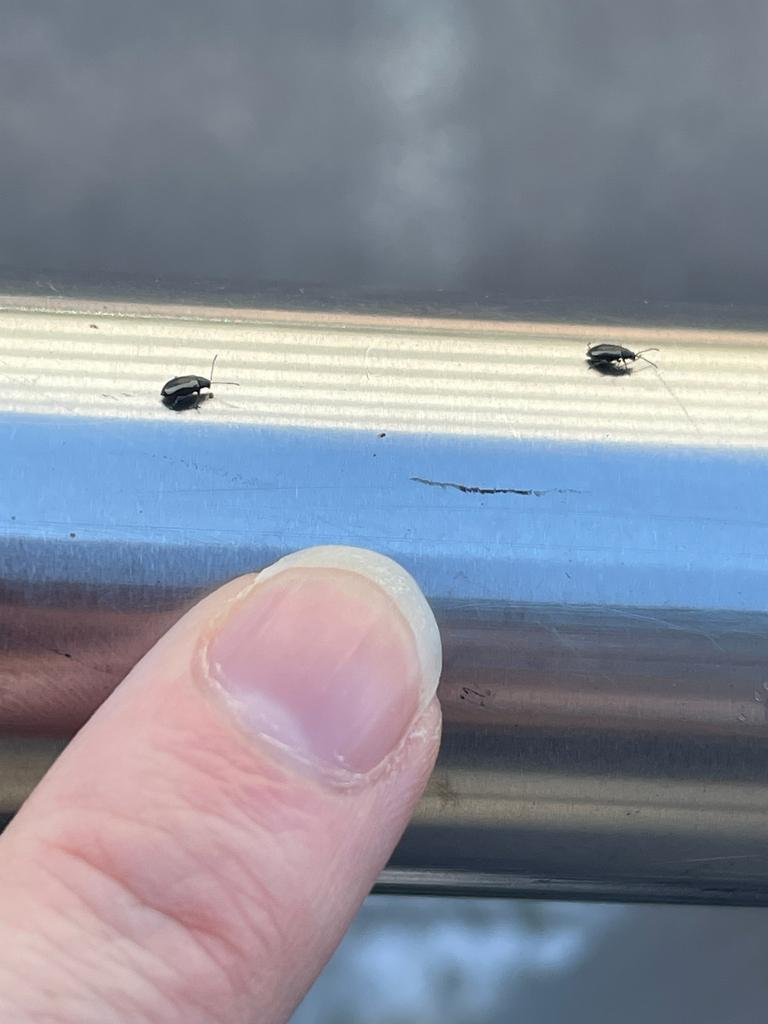flea_beetle: (141, 346, 251, 417), (568, 324, 665, 378)
